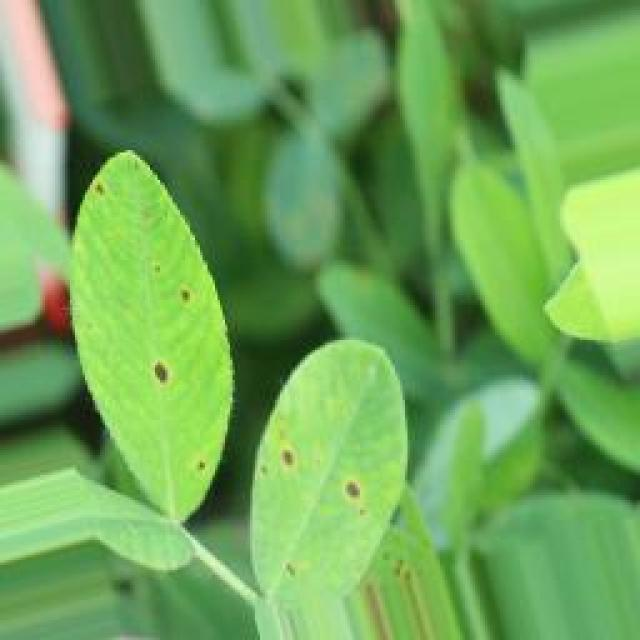Sigatoka: (314, 461, 384, 532), (164, 250, 211, 349), (119, 332, 171, 405), (183, 432, 221, 492), (272, 418, 304, 488), (78, 166, 119, 218), (285, 532, 324, 582)
